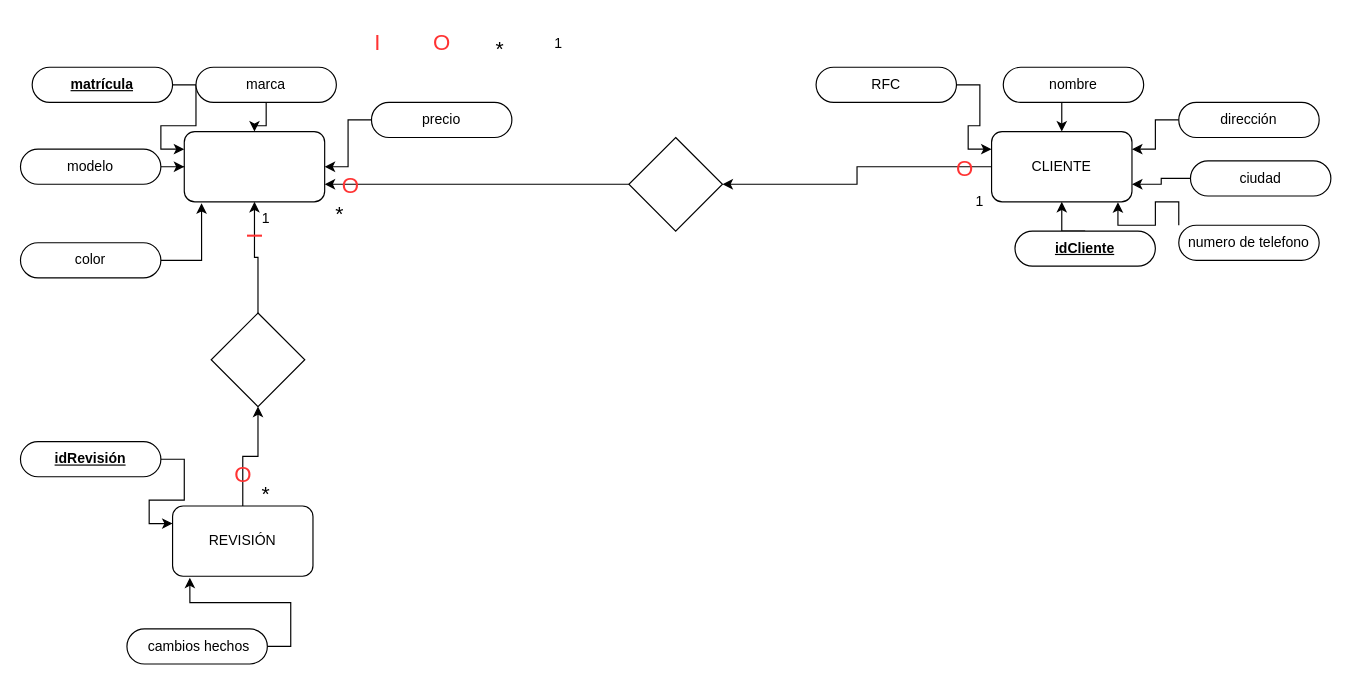
Image size: 1351x684. Some labels were removed from this diagram. The shapes that lost their labels are listed below. From the top down, each one's centre as x and y in pixels, then its label:
At point 254,166: "AUTO".
At point 675,183: "COMPRA".
At point 257,359: "REALIZA".
